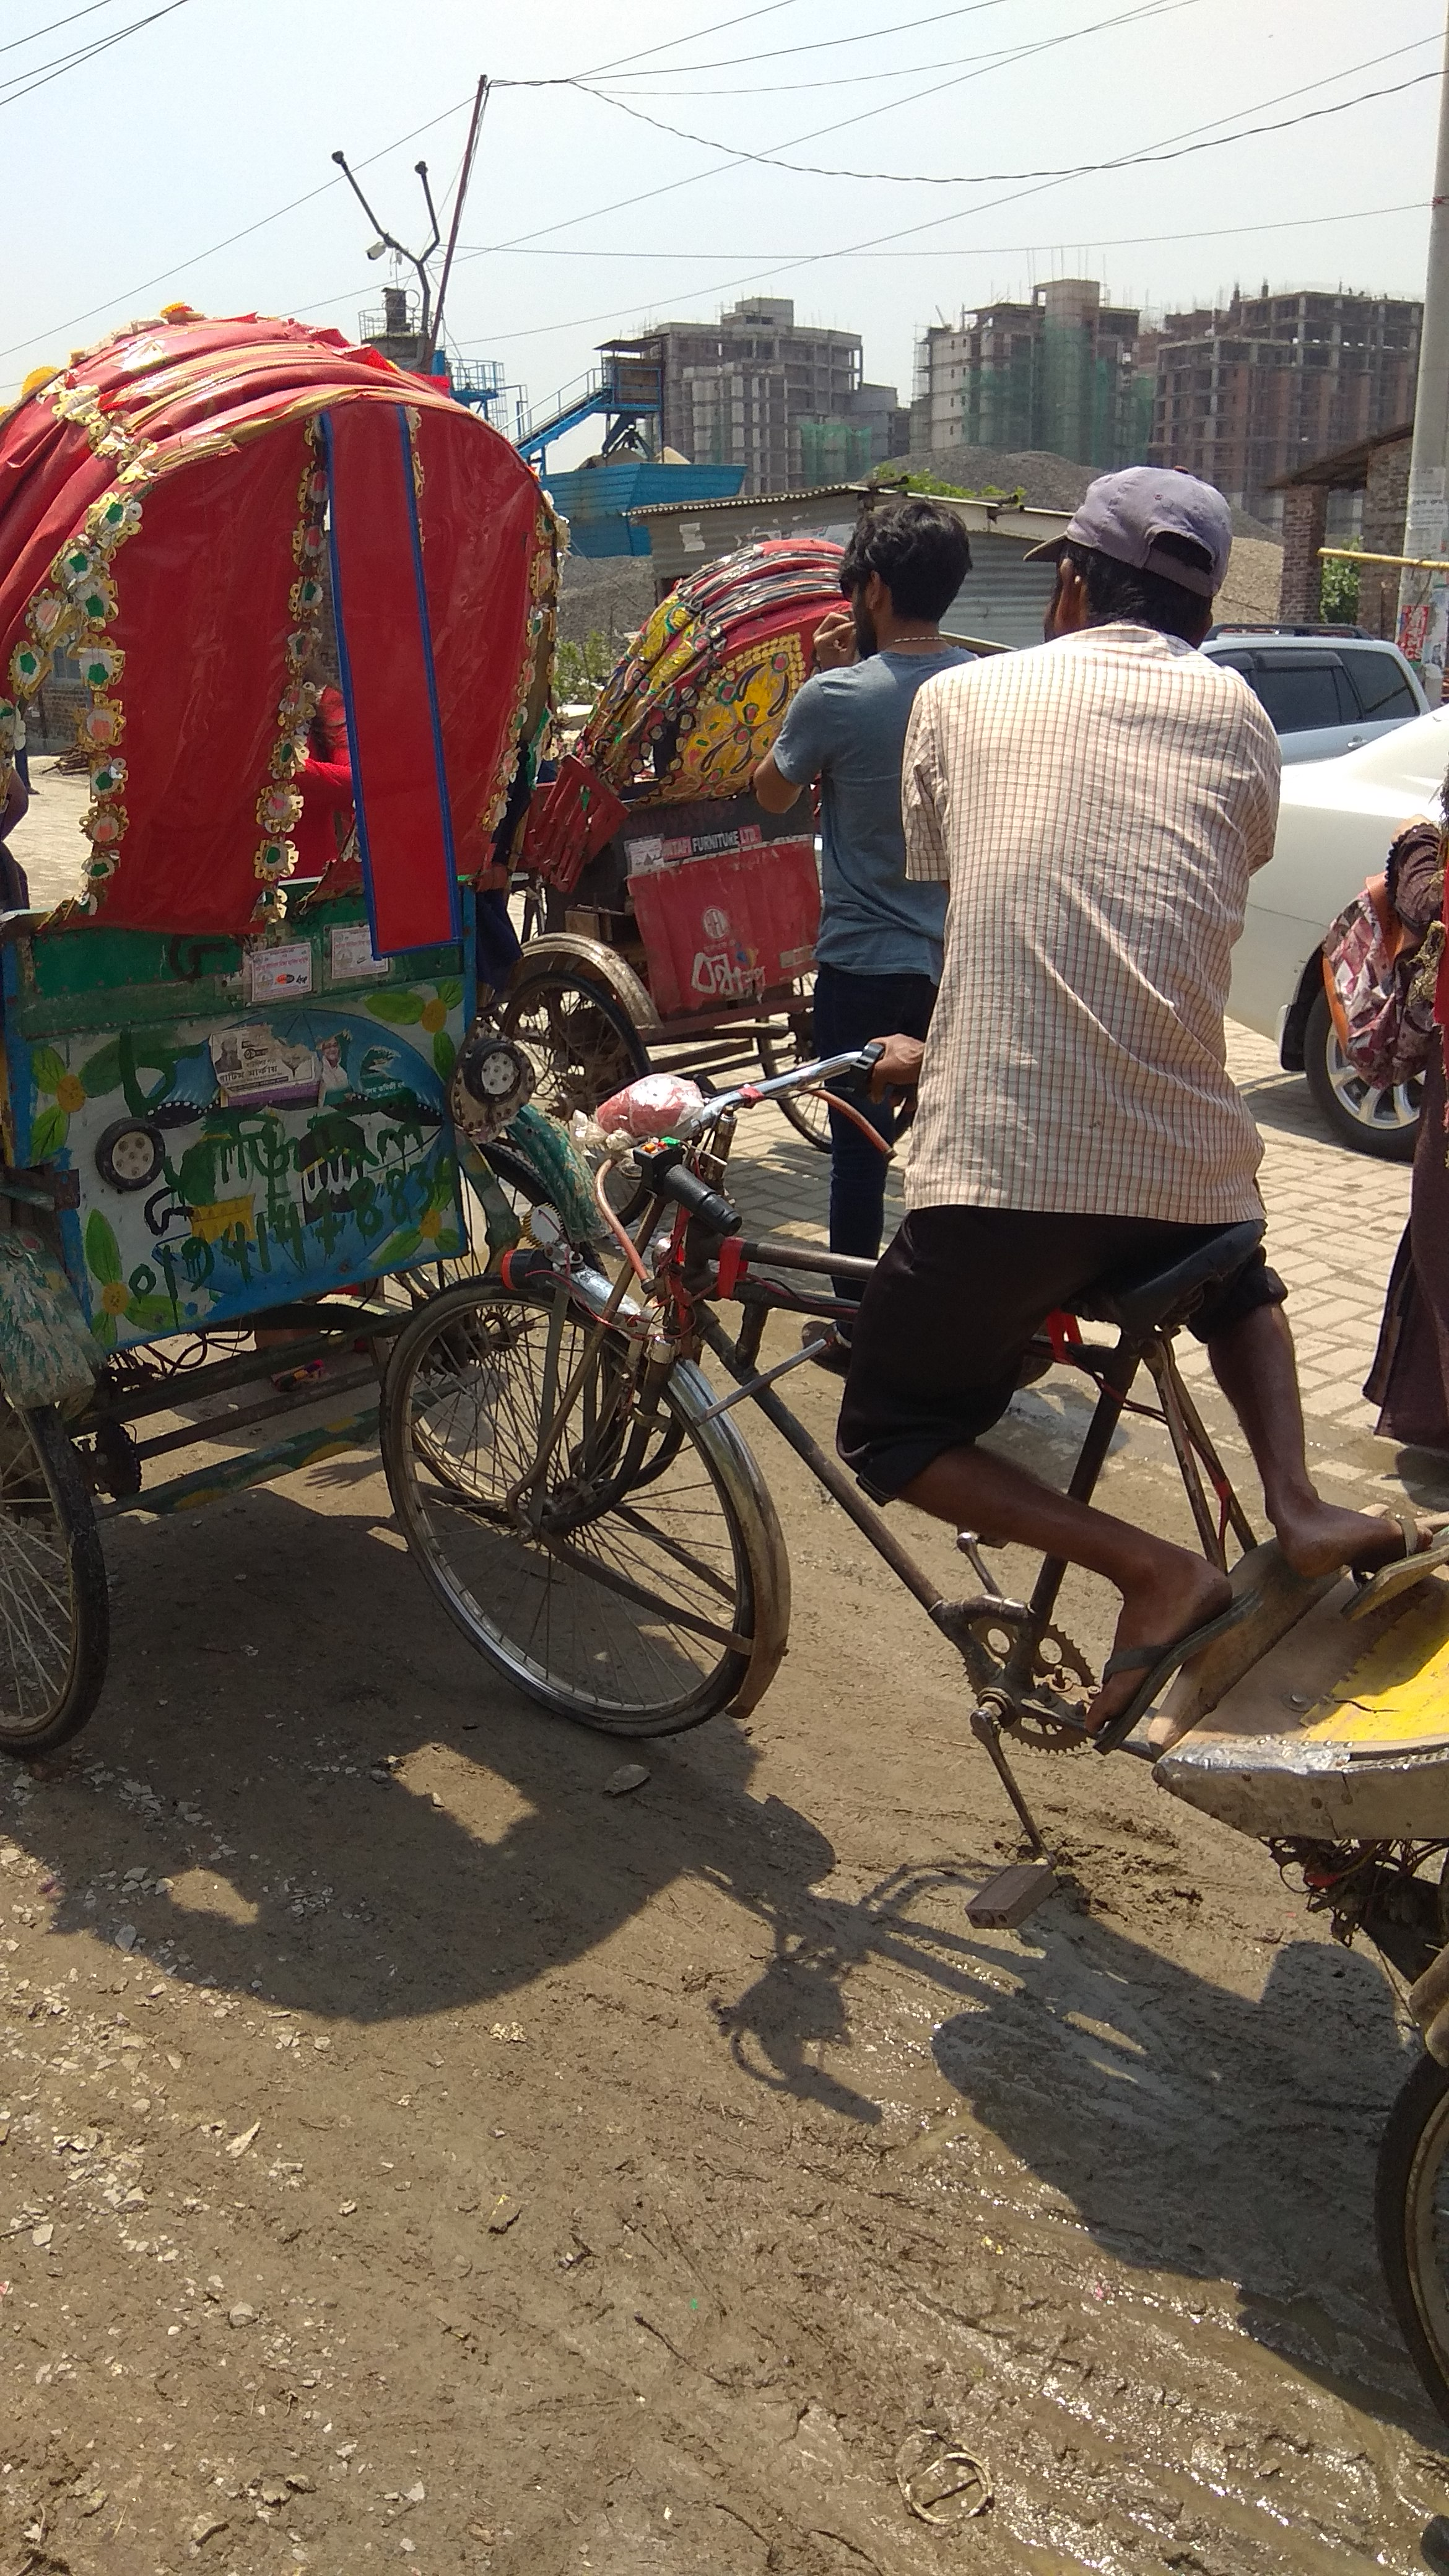Rickshaw: (9, 290, 791, 1741), (1019, 1040, 1447, 2390), (561, 520, 906, 1099)
